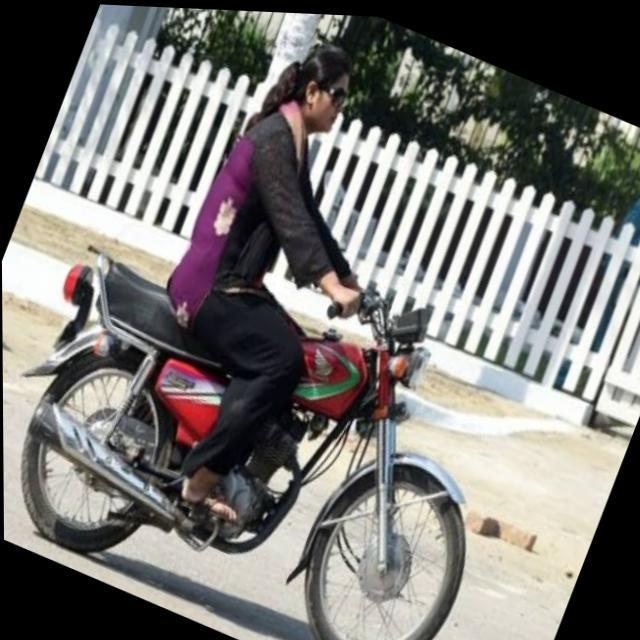Nonhelmet: (273, 30, 352, 143)
